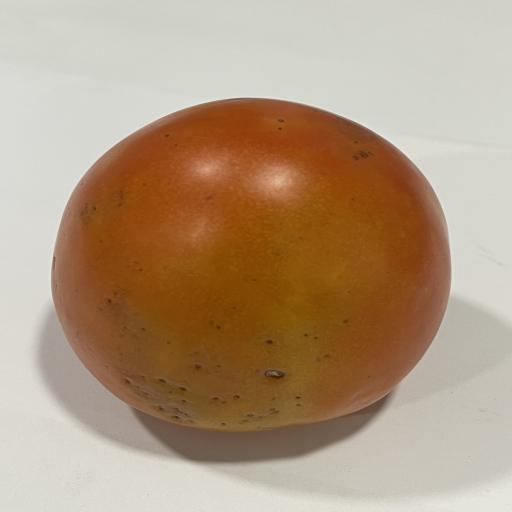ripe: (52, 98, 450, 432)
